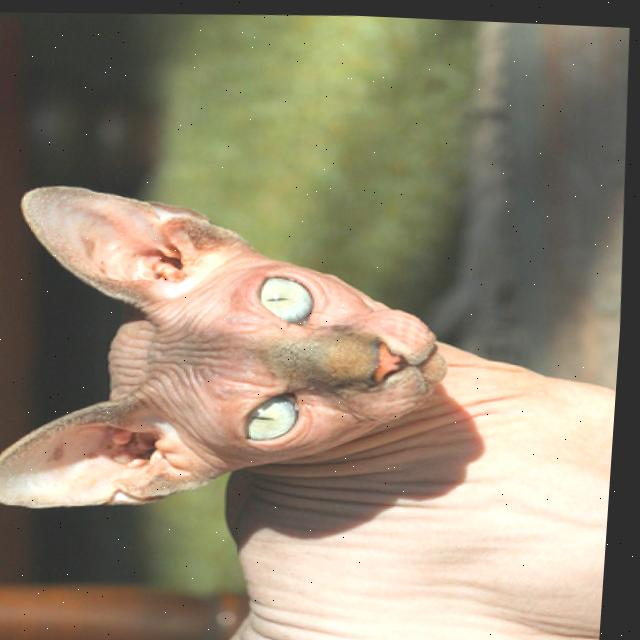Sphynx: (0, 159, 632, 640)
